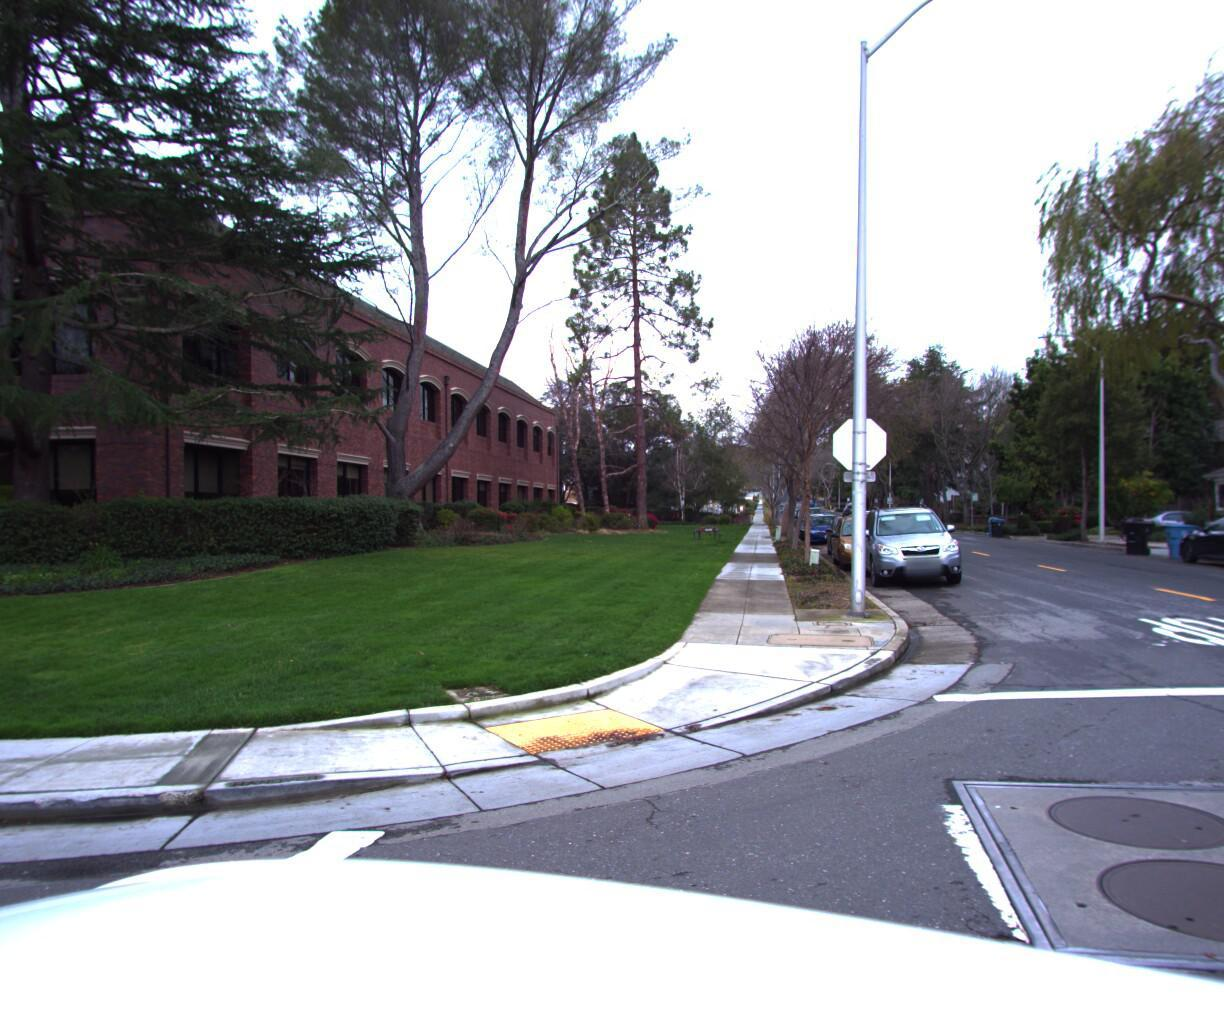car: (850, 502, 967, 596), (825, 513, 901, 576), (1170, 513, 1224, 576), (1120, 511, 1224, 543), (821, 518, 886, 563), (799, 517, 844, 548)
